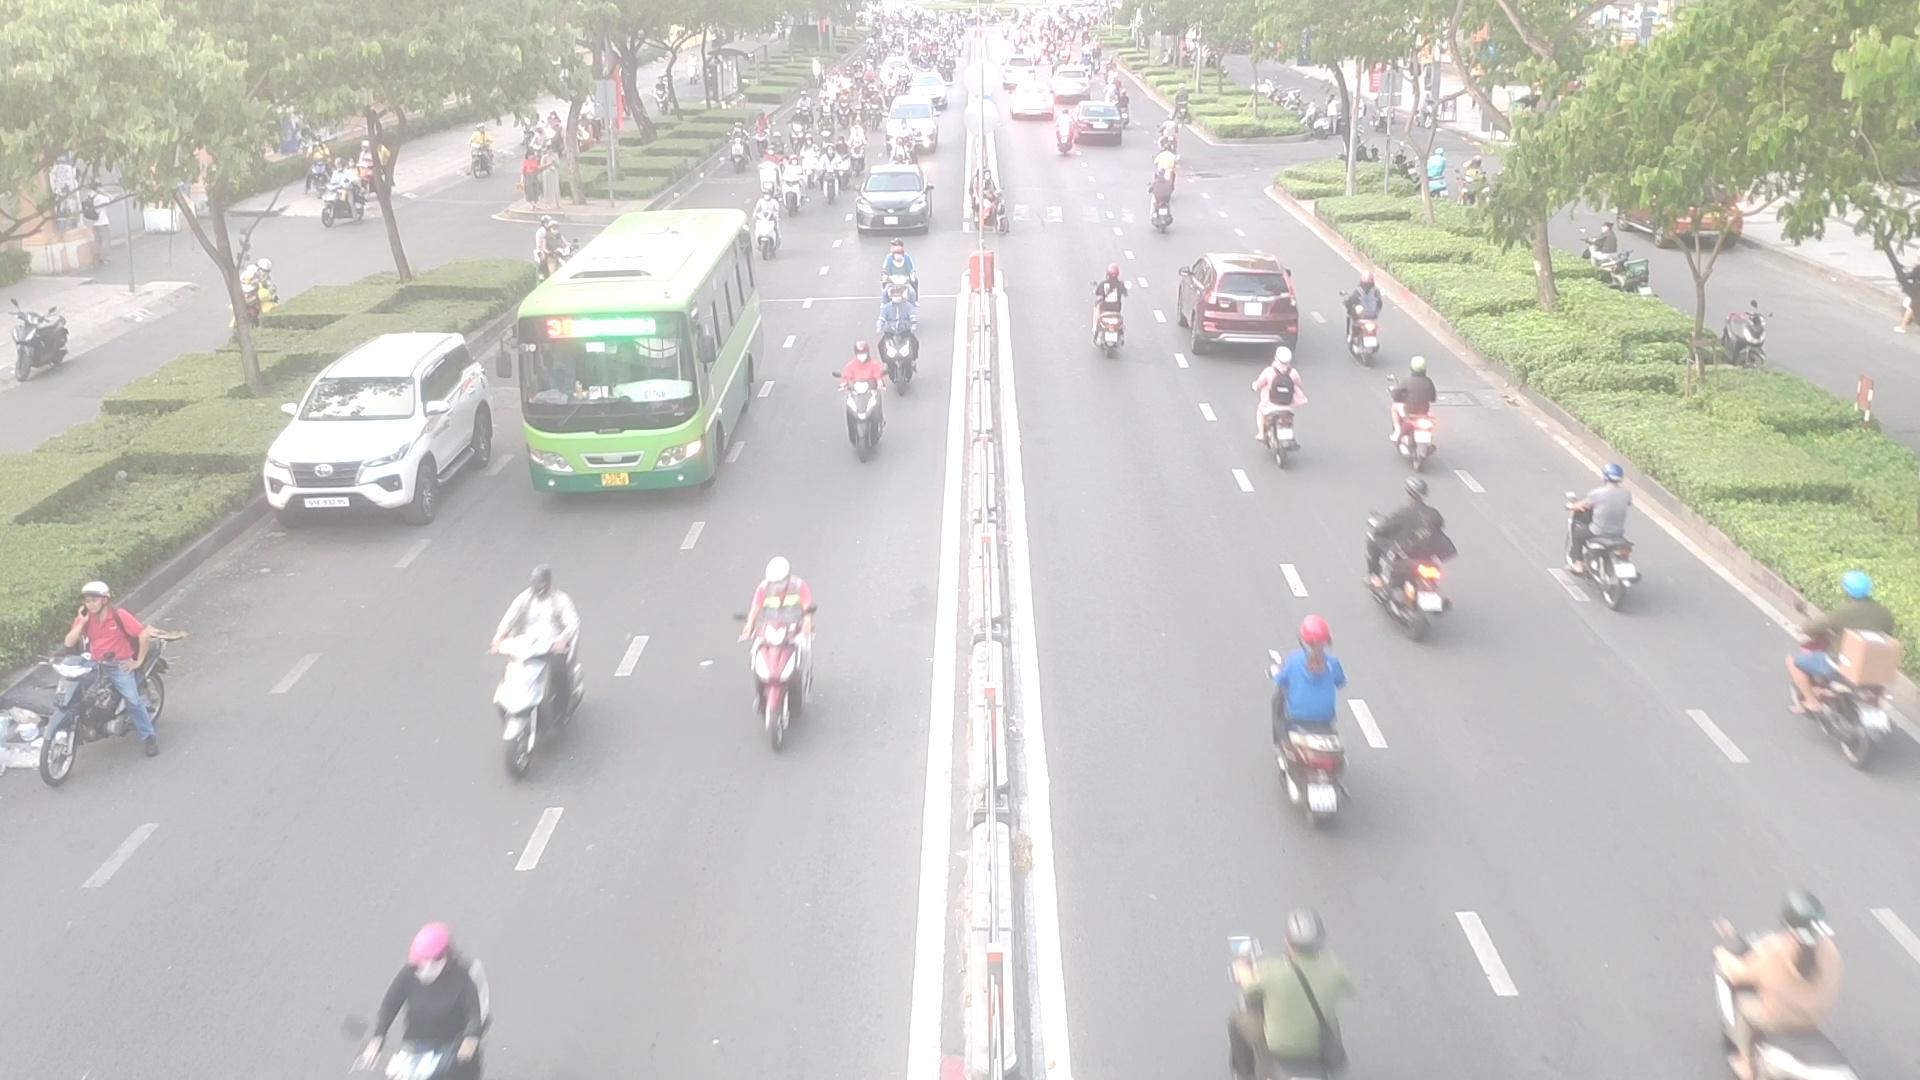bus: (517, 207, 773, 501)
car: (265, 332, 513, 527), (1178, 251, 1305, 352), (848, 164, 934, 235)
motorbike: (1700, 876, 1859, 1076), (20, 584, 170, 779), (1782, 572, 1920, 773), (1232, 884, 1356, 1080), (1259, 642, 1386, 815), (489, 571, 597, 765), (360, 934, 491, 1080), (740, 556, 836, 742), (1571, 471, 1660, 611), (1367, 489, 1455, 630), (1251, 345, 1313, 462), (832, 352, 895, 462), (877, 286, 934, 406), (1383, 357, 1445, 463), (1340, 280, 1396, 367), (1083, 266, 1131, 357), (1147, 164, 1176, 233)
